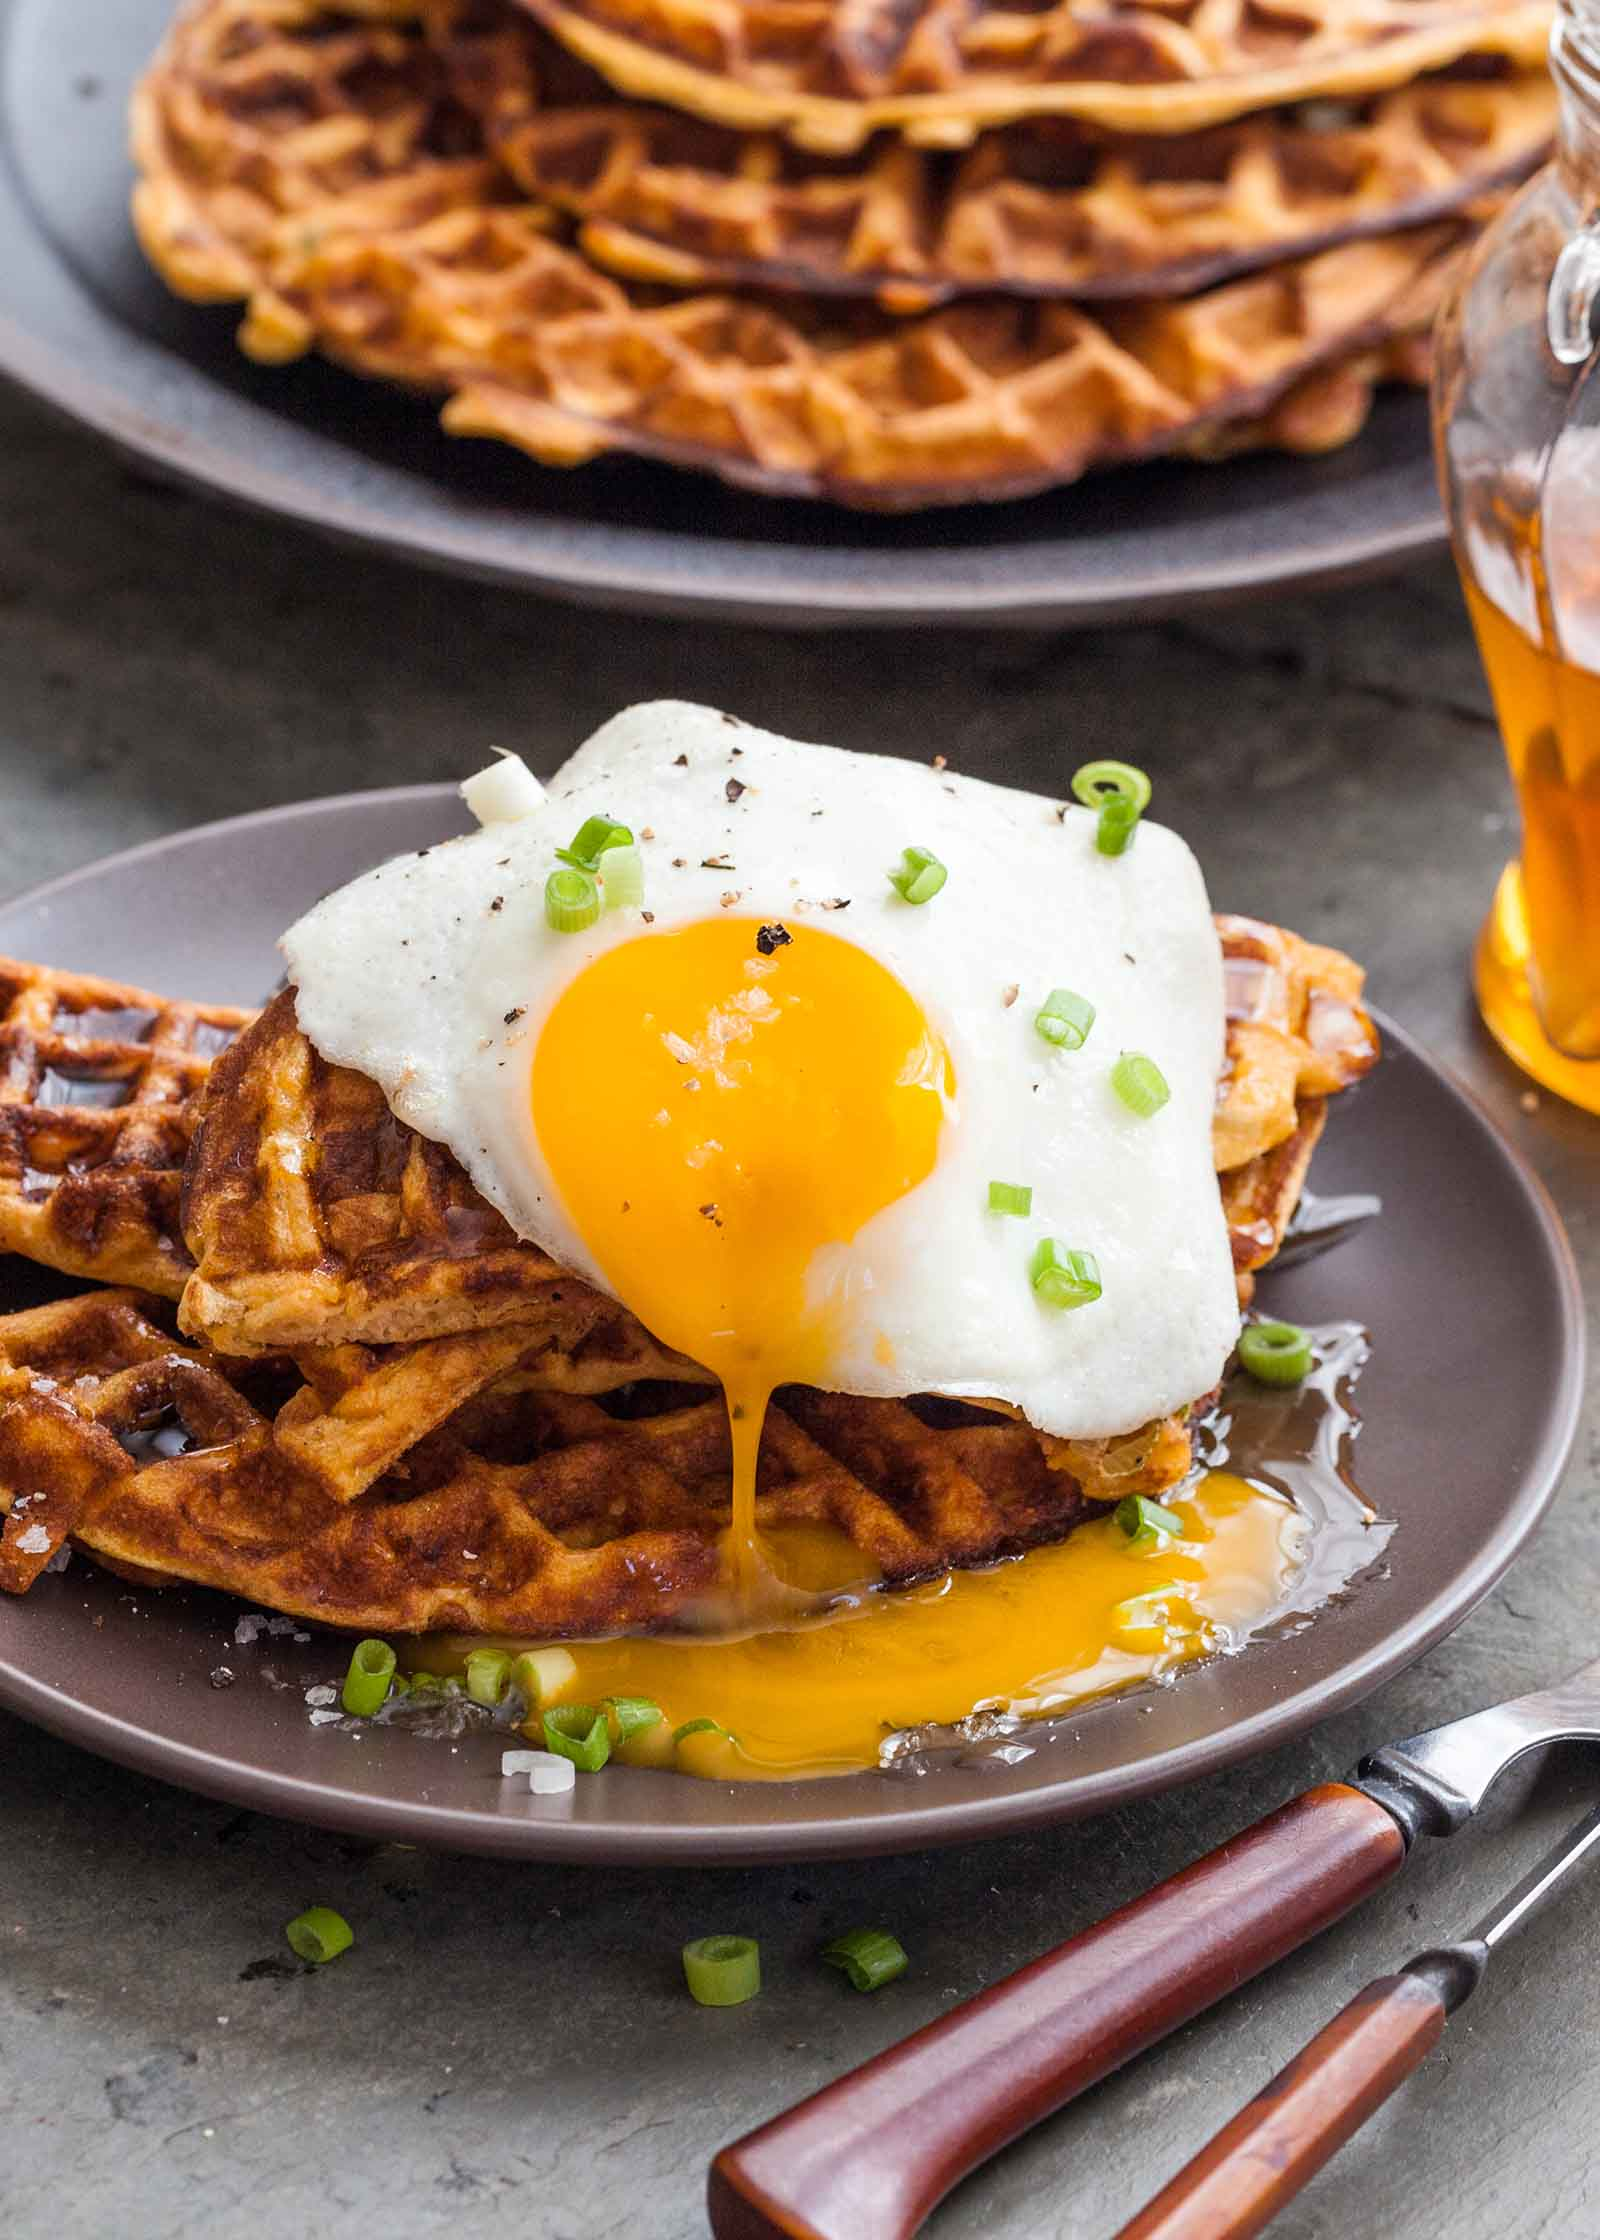fried egg: (296, 720, 1236, 1419)
